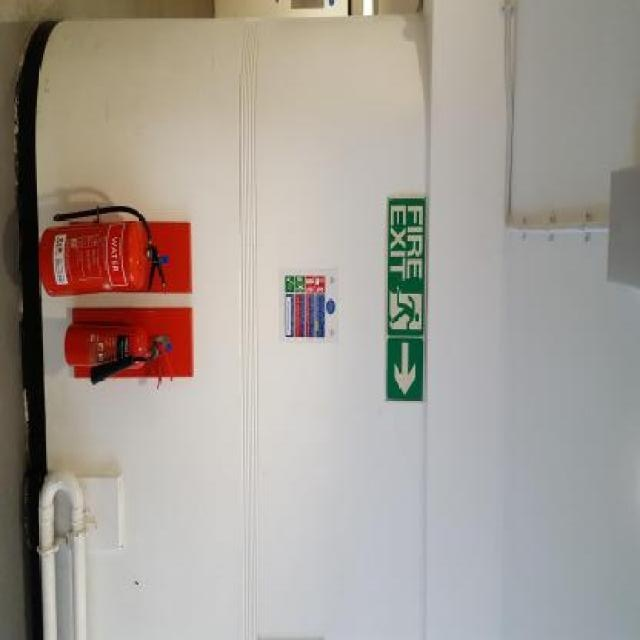fire extinguisher: (40, 205, 168, 297), (62, 315, 170, 391)
